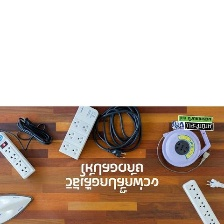three_eye_plug: (157, 119, 211, 170), (55, 105, 101, 162), (180, 178, 223, 224), (0, 129, 38, 180)
